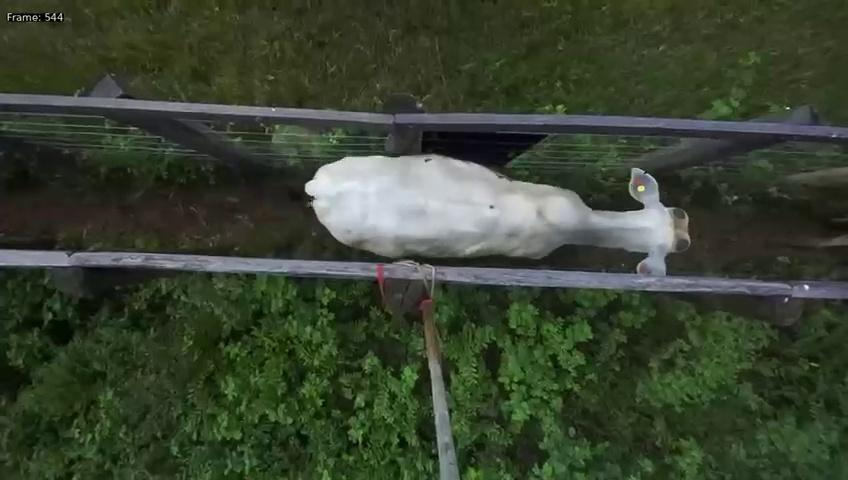cattle: (299, 138, 703, 292)
